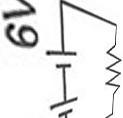resistor: (103, 42, 121, 92)
